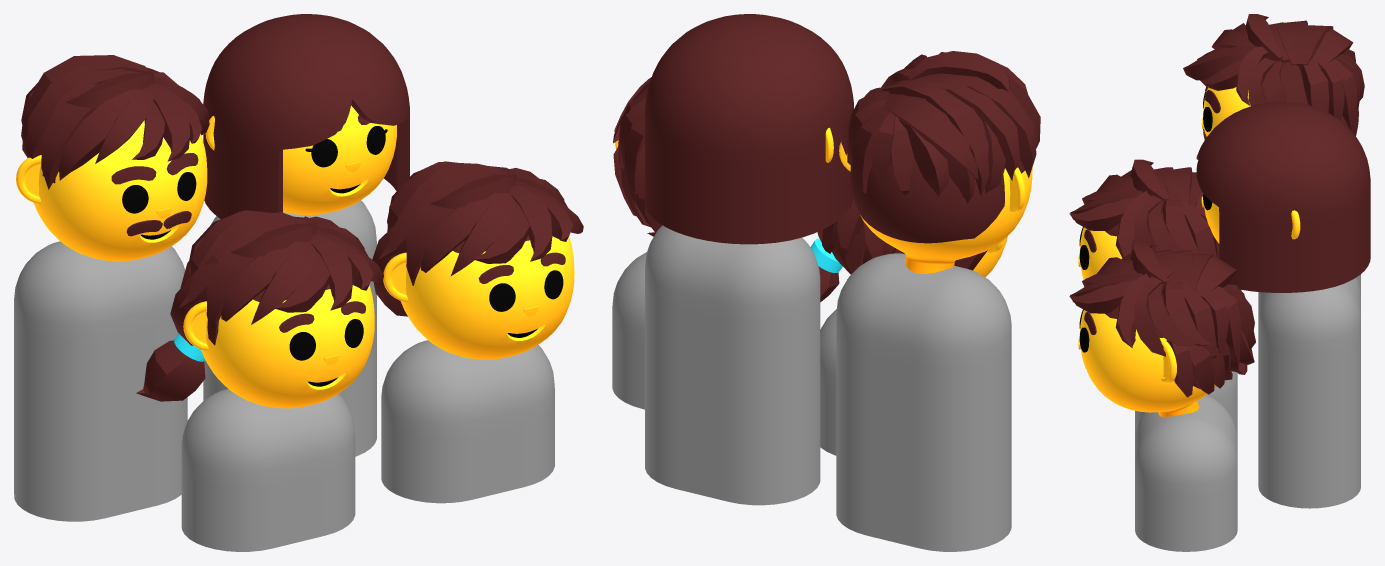
File: family_man_woman_girl_boy.glb
The picture shows the model from 3 angles, left to right: view 1: azimuth 30°, elevation 25°; view 2: azimuth 150°, elevation 25°; view 3: azimuth 270°, elevation 25°; orthographic projection. The views are drawn at different scales.
Parts seen in each view (by area): view 1: Sphere.283, Roundcube.342, Sphere.282, Sphere.285, Cube.4356, Cube.4319, Cube.4298, Roundcube.343, Roundcube.339, Roundcube.340, Roundcube.341, Sphere.284 (+11 smaller); view 2: Sphere.283, Sphere.284, Roundcube.342, Cube.4298, Roundcube.340, Sphere.285, Cube.4356, Cube.4319, Sphere.282, Cylinder.278, Cube.4340; view 3: Roundcube.342, Sphere.284, Cube.4356, Sphere.285, Cube.4298, Cube.4319, Roundcube.343, Roundcube.339, Roundcube.340, Sphere.282, Cylinder.280, Roundcube.341.
Boxes of the visible parts, box(x1,y1,x2,y2) form: Sphere.283: box(14, 241, 187, 521); Roundcube.342: box(203, 14, 409, 218); Sphere.282: box(181, 389, 355, 551); Sphere.285: box(381, 340, 554, 503); Cube.4356: box(372, 161, 583, 316); Cube.4319: box(170, 210, 383, 345); Cube.4298: box(21, 55, 209, 189); Roundcube.343: box(400, 235, 574, 359); Roundcube.339: box(201, 284, 374, 408); Roundcube.340: box(34, 120, 207, 261); Roundcube.341: box(283, 105, 396, 215); Sphere.284: box(203, 200, 376, 456); Sphere.283: box(836, 253, 1011, 551); Sphere.284: box(645, 225, 820, 505); Roundcube.342: box(645, 14, 853, 244); Cube.4298: box(841, 51, 1040, 203); Roundcube.340: box(850, 157, 1032, 273); Sphere.285: box(612, 252, 646, 409); Cube.4356: box(613, 77, 662, 236); Cube.4319: box(817, 198, 987, 279); Sphere.282: box(820, 309, 836, 455); Cylinder.278: box(839, 141, 1025, 212); Cube.4340: box(810, 238, 842, 272); Roundcube.342: box(1196, 101, 1370, 292); Sphere.284: box(1258, 277, 1360, 508); Cube.4356: box(1069, 242, 1255, 397); Sphere.285: box(1135, 395, 1237, 551); Cube.4298: box(1183, 14, 1364, 129); Cube.4319: box(1069, 159, 1241, 290); Roundcube.343: box(1079, 294, 1215, 416); Roundcube.339: box(1079, 211, 1163, 279); Roundcube.340: box(1203, 58, 1358, 136); Sphere.282: box(1135, 371, 1237, 439); Cylinder.280: box(1161, 341, 1176, 383); Roundcube.341: box(1204, 202, 1219, 243).
Size of the model in its own units: 2.51 by 2.2 by 1.62.
1 material, 1 textured.
